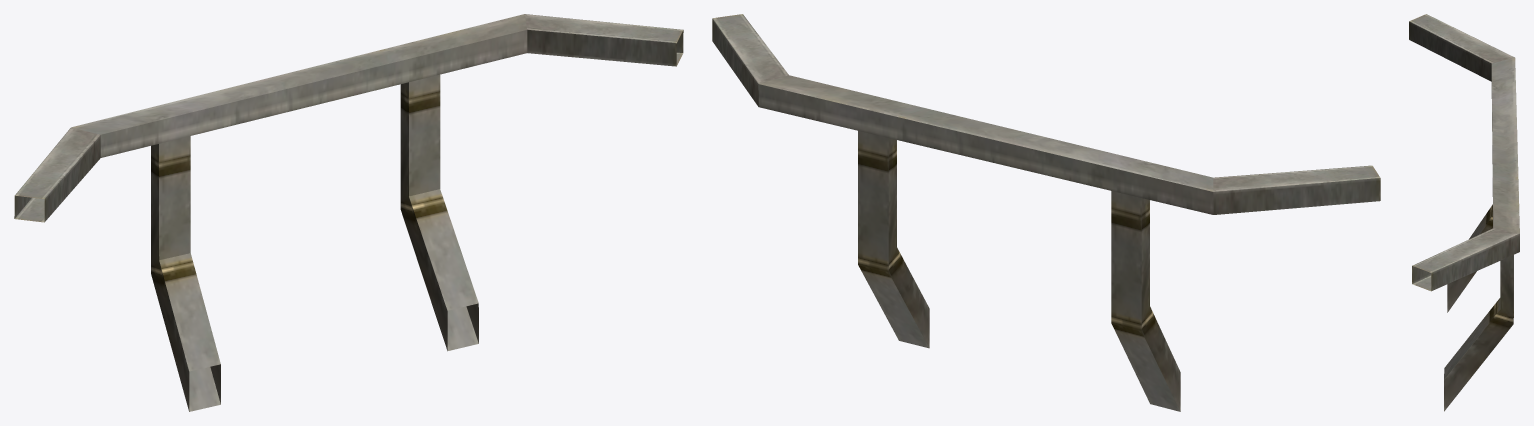
File: THL_6.fbx
3 views of the same model, side by side, from view 1: azimuth 30°, elevation 25°; view 2: azimuth 150°, elevation 25°; view 3: azimuth 270°, elevation 25° (orthographic). The views are drawn at different scales.
Visible parts, largest first — view 1: polySurface2; view 2: polySurface2; view 3: polySurface2.
Boxes of the visible parts, bbox=[...] form: polySurface2: bbox=[14, 14, 683, 411]; polySurface2: bbox=[712, 14, 1380, 411]; polySurface2: bbox=[1409, 14, 1519, 411].
Size of the model in its own units: 8.09 by 3.13 by 1.47.
